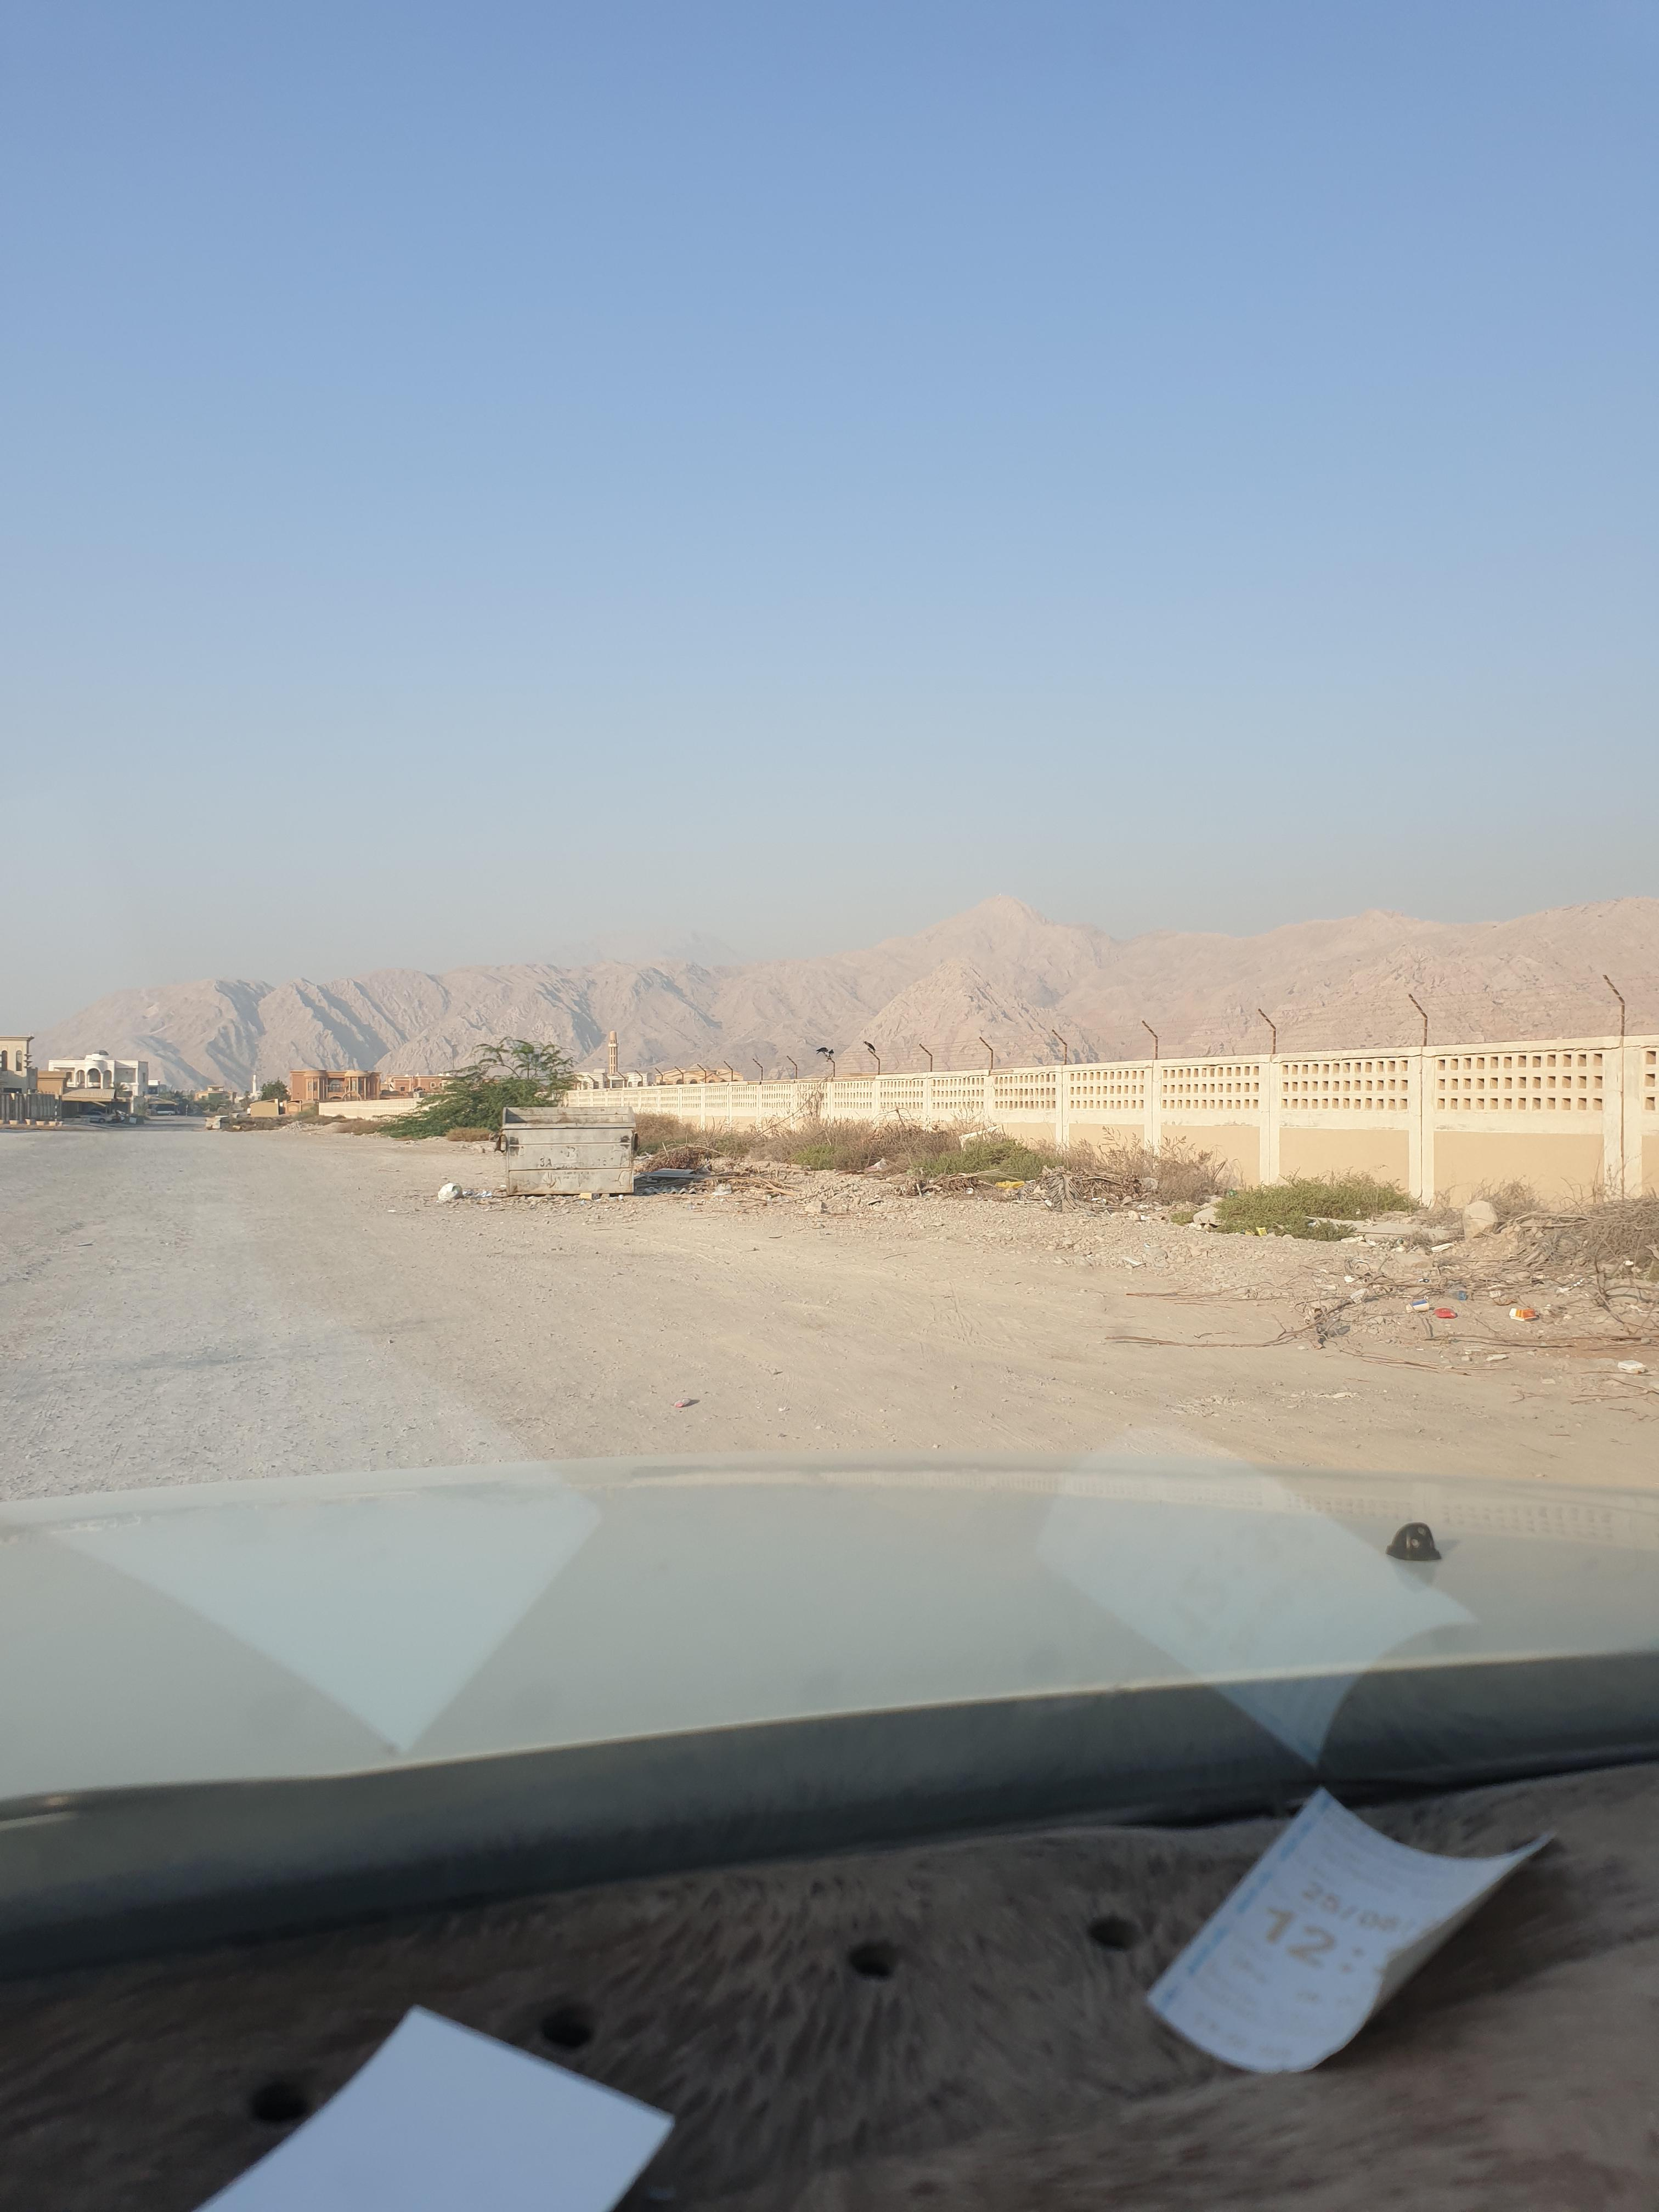fallen_trees: (1112, 1317, 1349, 1355), (666, 1160, 816, 1205), (1023, 1170, 1133, 1221), (877, 1172, 990, 1200)
